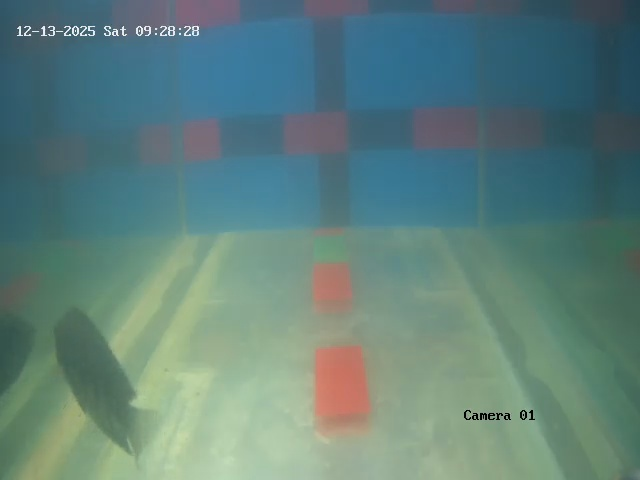fish: (44, 303, 156, 451)
